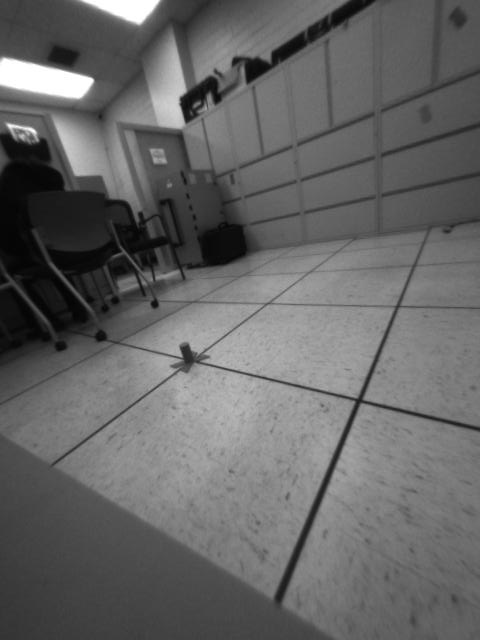X: (168, 340, 211, 375)
